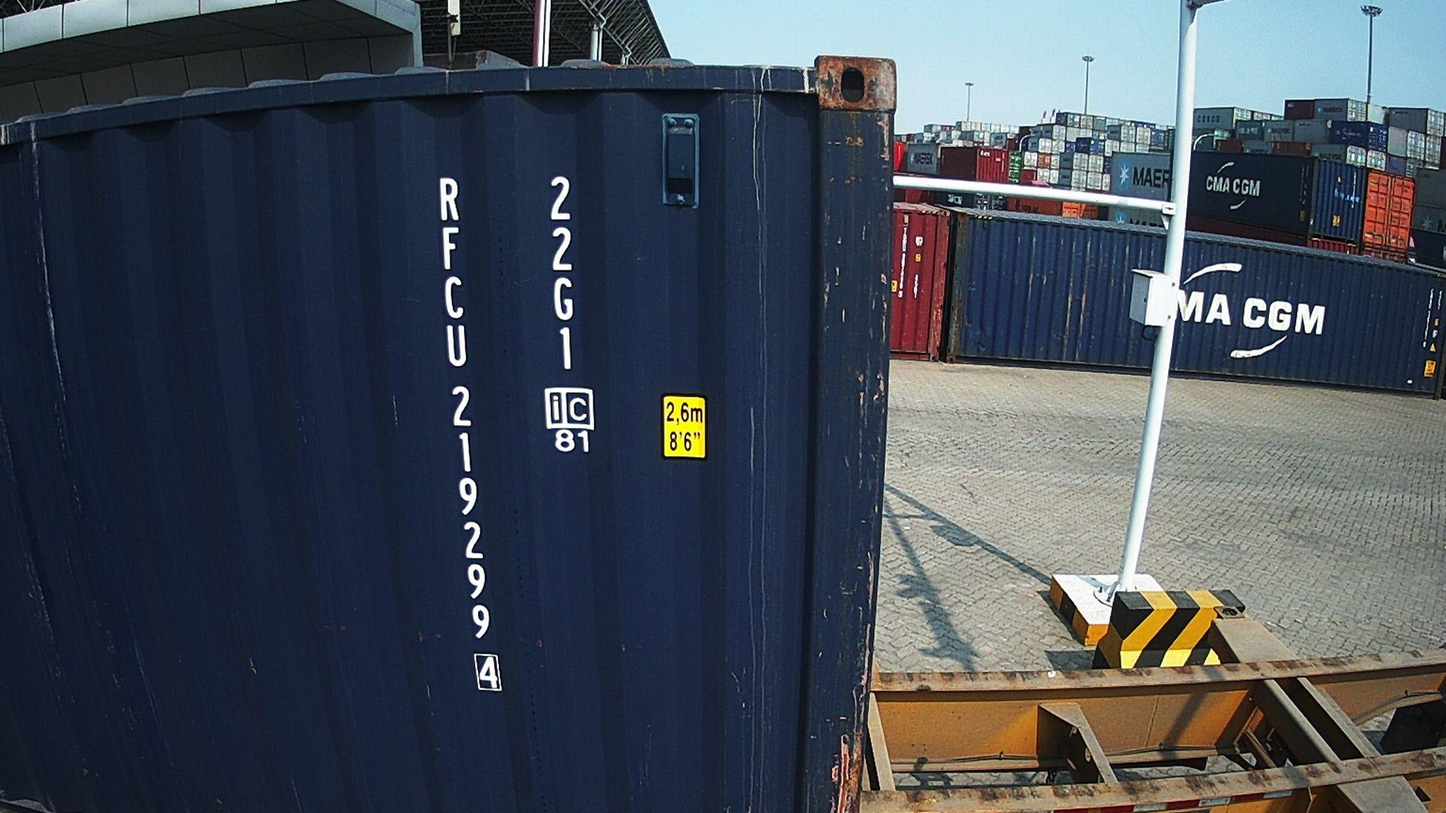container-numbers: (432, 171, 508, 697), (544, 172, 584, 373)
